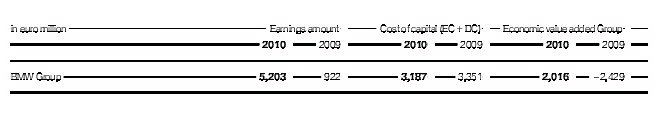table: (0, 0, 662, 114)
